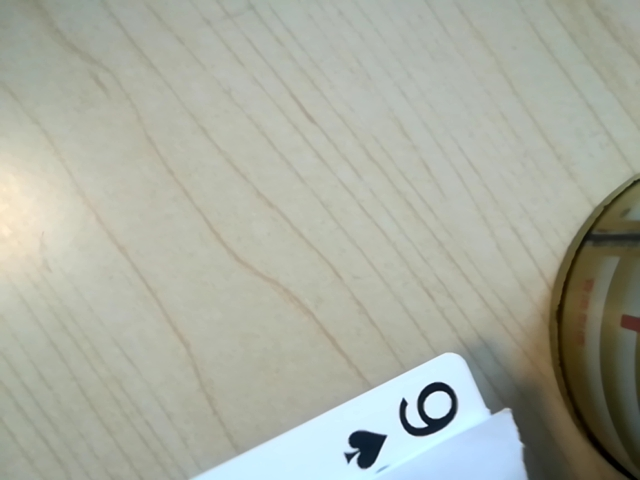ht 9: (339, 370, 480, 465)
